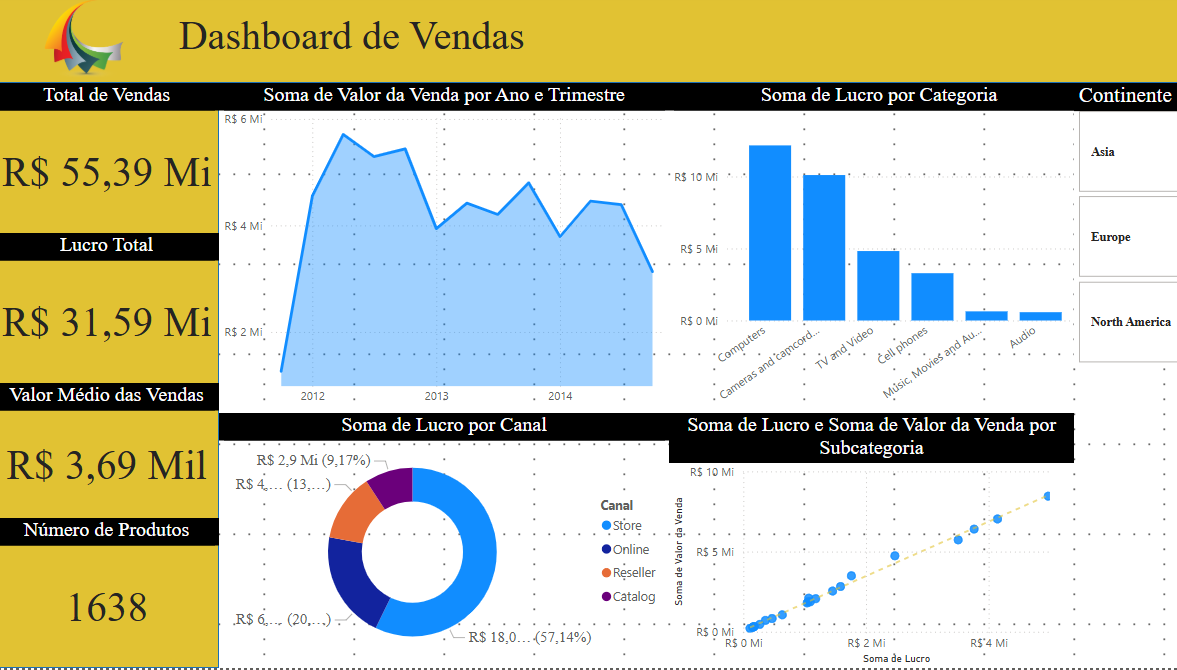

The page's visual inventory and layout, read from the dashboard file:
{"tool":"powerbi","page":{"name":"Página 1","canvas":[1280,720],"ordinal":0},"visuals":[{"type":"shape","box":[0,96,240,624],"z":0},{"type":"shape","box":[0,0,1280,96],"z":1000},{"type":"textbox","box":[192,16,624,64],"z":2000},{"type":"image","box":[16,0,160,96],"z":3000},{"type":"card","title":"Total de Vendas","fields":{"Values":["Sum(Data1.Valor da Venda)"]},"box":[0,96,240,160],"z":4000},{"type":"card","title":"Lucro Total","fields":{"Values":["Sum(Data1.Lucro)"]},"box":[0,256,240,160],"z":5000},{"type":"card","title":"Valor Médio das Vendas","fields":{"Values":["Avg(Data1.Valor da Venda)"]},"box":[0,416,240,144],"z":6000},{"type":"card","title":"Número de Produtos","fields":{"Values":["Count(Data1.Produto)"]},"box":[0,560,240,160],"z":7000},{"type":"areaChart","fields":{"Category":["Data1.Data Venda.Variation.Hierarquia de datas.Ano","Data1.Data Venda.Variation.Hierarquia de datas.Trimestre","Data1.Data Venda.Variation.Hierarquia de datas.Mês","Data1.Data Venda.Variation.Hierarquia de datas.Dia"],"Y":["Sum(Data1.Valor da Venda)"]},"box":[240,96,480,352],"z":8000},{"type":"columnChart","fields":{"Category":["Data1.Categoria"],"Y":["Sum(Data1.Lucro)"]},"box":[720,96,448,352],"z":9000},{"type":"donutChart","fields":{"Category":["Data1.Canal"],"Y":["Sum(Data1.Lucro)"]},"box":[240,448,480,272],"z":10000},{"type":"scatterChart","fields":{"Category":["Data1.Subcategoria"],"X":["Sum(Data1.Lucro)"],"Y":["Sum(Data1.Valor da Venda)"]},"box":[720,448,432,272],"z":11000},{"type":"advancedSlicerVisual","fields":{"Values":["Data1.Continente"]},"box":[1152,96,128,304],"z":11001}]}

Visuals, with their boxes in screenshot pixels (x1, y1, x2, y2), scaled from the page's 1280x720 canvas onto the 1177x670 screenshot:
shape: Rect(0, 89, 221, 669)
shape: Rect(0, 0, 1176, 89)
textbox: Rect(177, 15, 750, 74)
image: Rect(15, 0, 162, 89)
"Total de Vendas" card: Rect(0, 89, 221, 238)
"Lucro Total" card: Rect(0, 238, 221, 387)
"Valor Médio das Vendas" card: Rect(0, 387, 221, 521)
"Número de Produtos" card: Rect(0, 521, 221, 669)
areaChart - Data1.Data Venda.Variation.Hierarquia de datas.Ano x Data1.Data Venda.Variation.Hierarquia de datas.Trimestre: Rect(221, 89, 662, 417)
columnChart - Data1.Categoria x Sum(Data1.Lucro): Rect(662, 89, 1074, 417)
donutChart - Data1.Canal x Sum(Data1.Lucro): Rect(221, 417, 662, 669)
scatterChart - Data1.Subcategoria x Sum(Data1.Lucro): Rect(662, 417, 1059, 669)
advancedSlicerVisual - Data1.Continente: Rect(1059, 89, 1176, 372)
